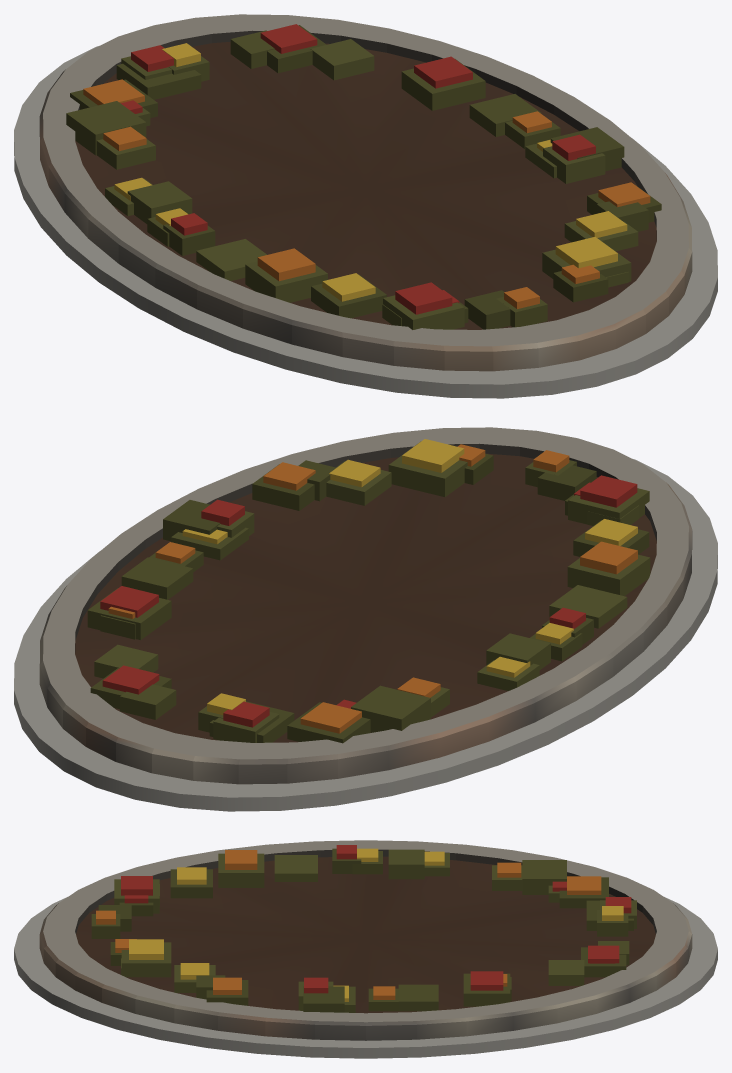
Rendered from monument.island_bed.autumn.glb.
The picture shows the model from 3 angles, top to bottom: view 1: azimuth 30°, elevation 25°; view 2: azimuth 150°, elevation 25°; view 3: azimuth 270°, elevation 25°; orthographic projection. The views are drawn at different scales.
Parts seen in each view (by area): view 1: monument_island_bed_autumn; view 2: monument_island_bed_autumn; view 3: monument_island_bed_autumn.
Boxes of the visible parts, left/top/right/bottom form: monument_island_bed_autumn: left=14, top=14, right=717, bottom=398; monument_island_bed_autumn: left=14, top=427, right=717, bottom=811; monument_island_bed_autumn: left=14, top=840, right=717, bottom=1058.
Size of what is drawn, in the model's own units: 6 by 0.6048 by 9.
